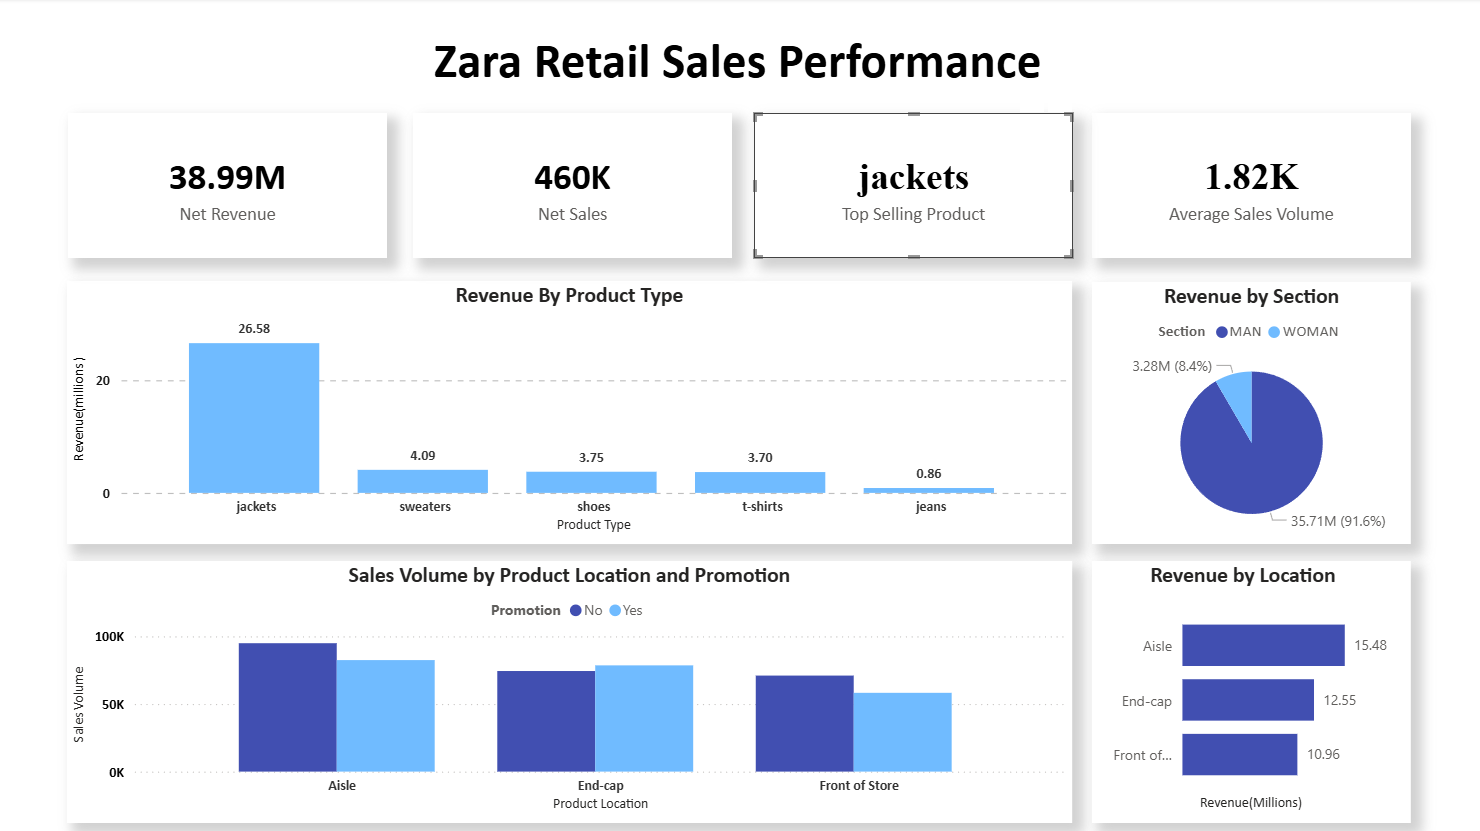

Layout of this report page (visuals, bound fields, positions):
{"tool":"powerbi","page":{"name":"Page 1","canvas":[1280,720],"ordinal":0},"visuals":[{"type":"card","title":"Revenue by Product Type","fields":{"Values":["project2_db zara.Revenue"]},"box":[60.3,99.2,275,125.5],"z":0},{"type":"textbox","box":[370.6,22.4,538.8,62.2],"z":1000},{"type":"card","title":"Revenue by Product Type","fields":{"Values":["Sum(project2_db zara.Sales Volume)"]},"box":[357.9,99.2,275.3,125.5],"z":2000},{"type":"card","title":"Revenue by Product Type","fields":{"Values":["project2_db zara.top_selling_item"]},"box":[651.7,99.2,275.3,125.5],"z":3000},{"type":"card","title":"Revenue by Product Type","fields":{"Values":["project2_db zara.average_sales_volume"]},"box":[943.5,99.2,275,125.5],"z":4000},{"type":"columnChart","title":"Revenue By Product Type","fields":{"Category":["project2_db zara.terms"],"Y":["project2_db zara.Revenue(millions )"]},"box":[59.5,244.3,866.8,226.8],"z":5000},{"type":"pieChart","title":"Revenue by Section","fields":{"Y":["project2_db zara.Revenue"],"Category":["project2_db zara.section"]},"box":[943.5,245.1,275.3,225.7],"z":5001},{"type":"clusteredColumnChart","title":"Sales Volume by Product Location and Promotion","fields":{"Category":["project2_db zara.Product Position"],"Y":["Sum(project2_db zara.Sales Volume)"],"Series":["project2_db zara.Promotion"]},"box":[59.3,485.3,866.6,225.7],"z":5002},{"type":"barChart","title":"Revenue by Location","fields":{"Y":["project2_db zara.Revenue(millions )"],"Category":["project2_db zara.Product Position"]},"box":[943.5,485.3,275.3,225.7],"z":5003},{"type":"textbox","box":[1023,678.8,115.6,26.7],"z":5004}]}

Visuals, with their boxes in screenshot pixels (x1, y1, x2, y2), scaled from the page's 1280x720 canvas onto the 1480x831 screenshot:
"Revenue by Product Type" card: <bbox>70, 114, 388, 259</bbox>
textbox: <bbox>429, 26, 1051, 98</bbox>
"Revenue by Product Type" card: <bbox>414, 114, 732, 259</bbox>
"Revenue by Product Type" card: <bbox>754, 114, 1072, 259</bbox>
"Revenue by Product Type" card: <bbox>1091, 114, 1409, 259</bbox>
"Revenue By Product Type" columnChart: <bbox>69, 282, 1071, 544</bbox>
"Revenue by Section" pieChart: <bbox>1091, 283, 1409, 543</bbox>
"Sales Volume by Product Location and Promotion" clusteredColumnChart: <bbox>69, 560, 1071, 821</bbox>
"Revenue by Location" barChart: <bbox>1091, 560, 1409, 821</bbox>
textbox: <bbox>1183, 783, 1317, 814</bbox>
